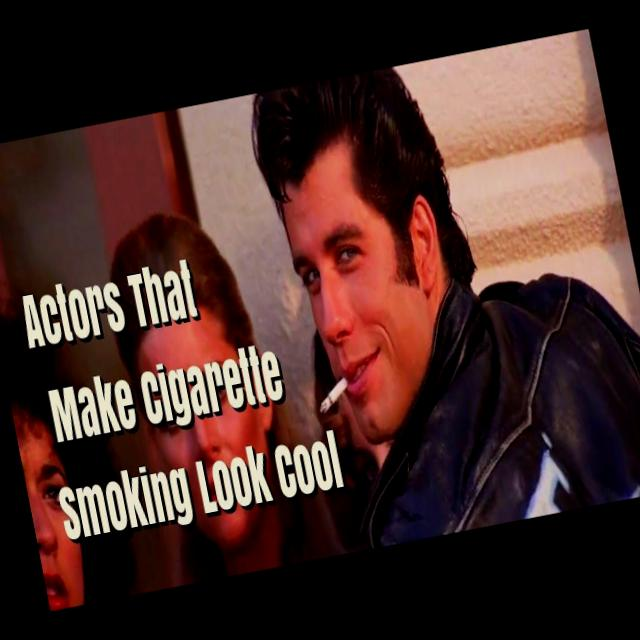smoke: (301, 356, 383, 425)
